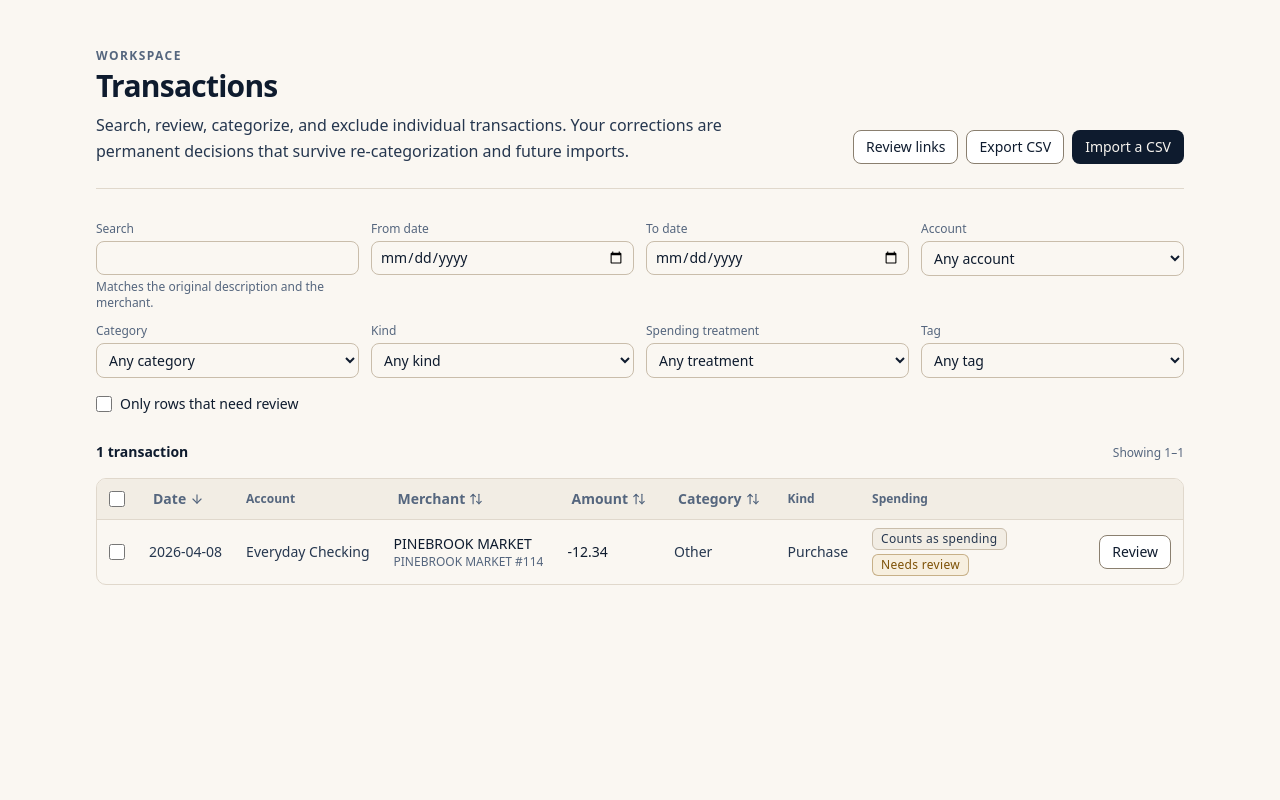
Test: double submission › writes once when the save button is clicked twice
Expected: the heading "1 transaction" is shown, [96, 442, 188, 462]
Step 1. Click the button "Review" → (1135, 552), box [1099, 535, 1171, 569]
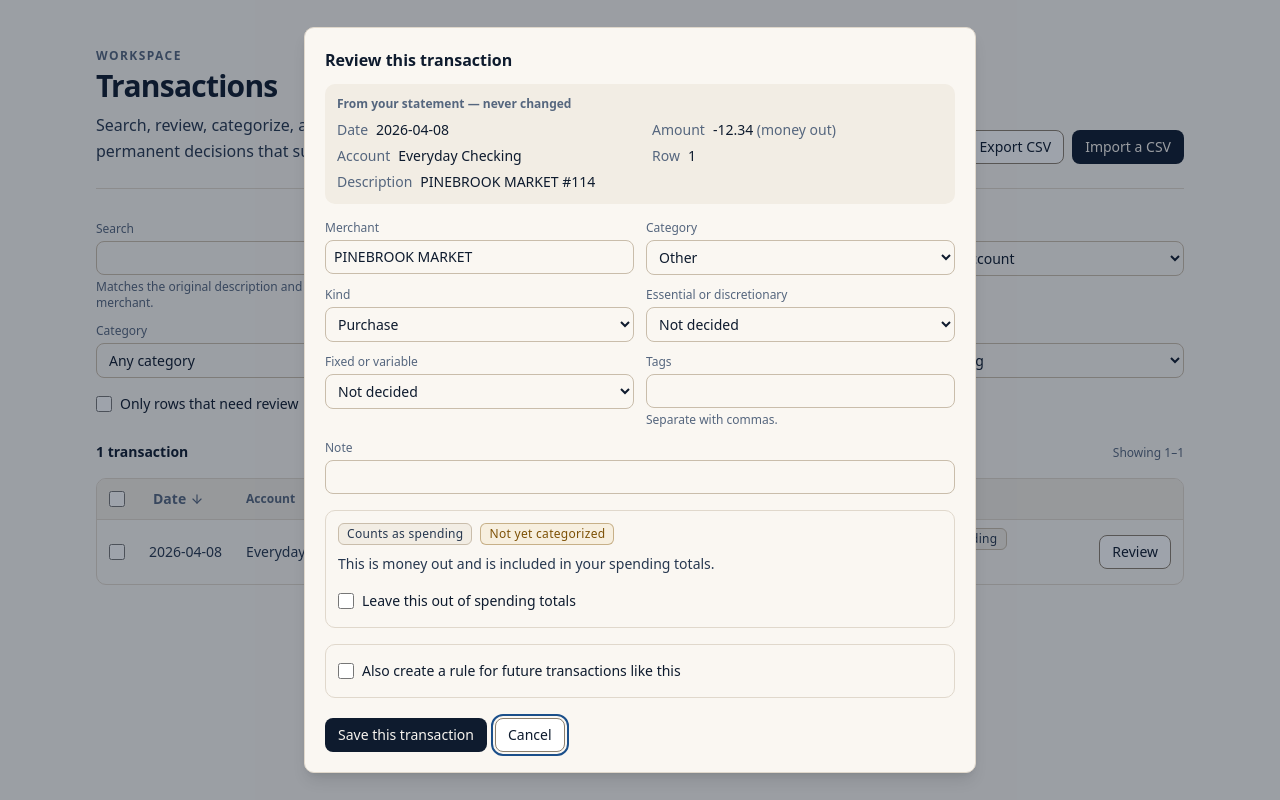
Step 2. Select "Groceries" in the dropdown labelled "Category" → (800, 257), box [646, 240, 955, 275]
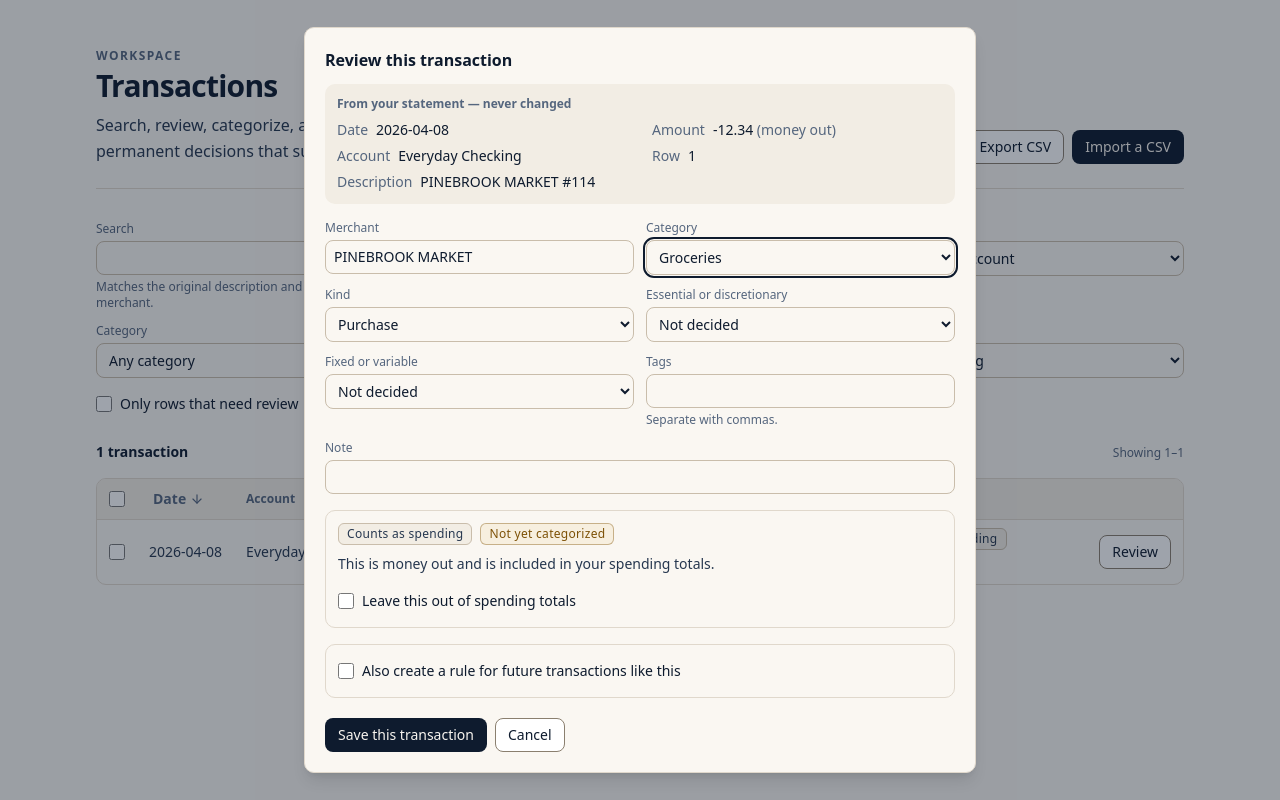
Step 3. Click the button "Save this transaction" → (406, 735), box [325, 718, 487, 752]
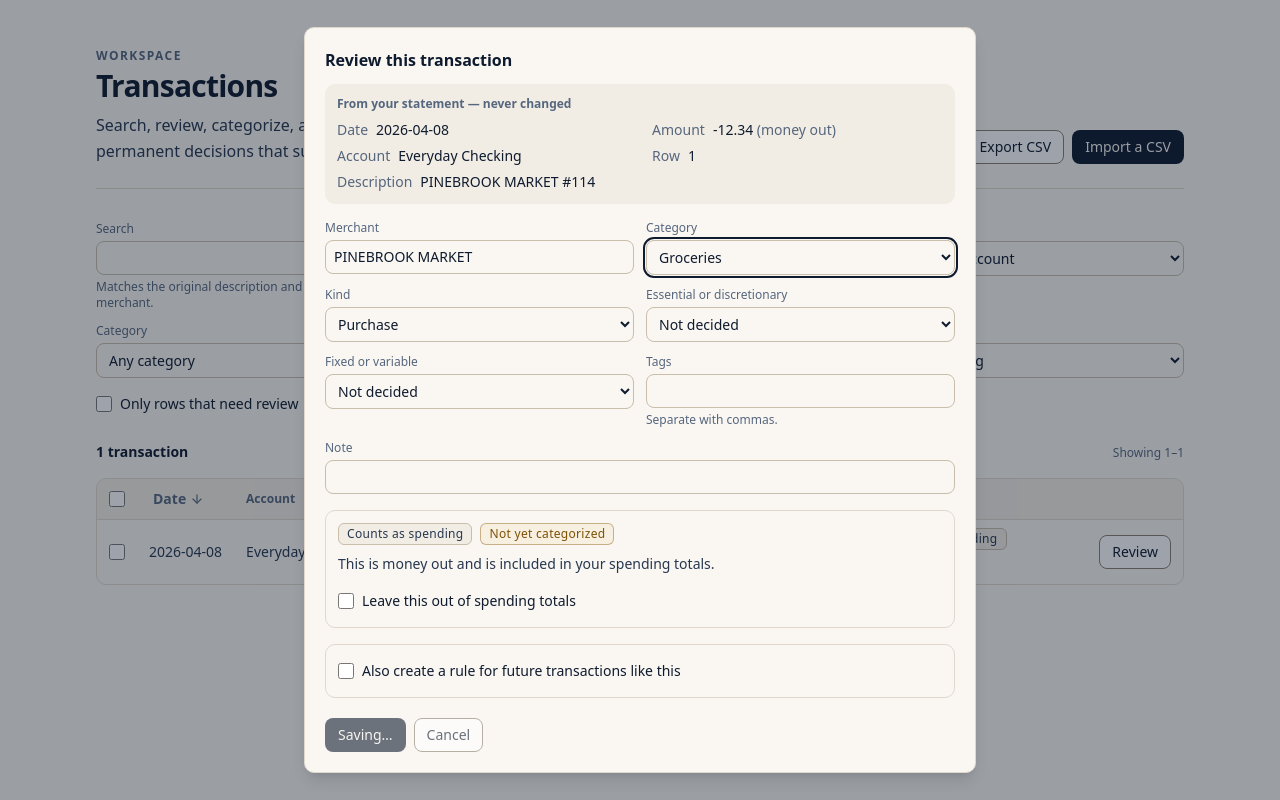
Step 4. Click the button named "save this transaction" → (365, 735), box [325, 718, 406, 752]
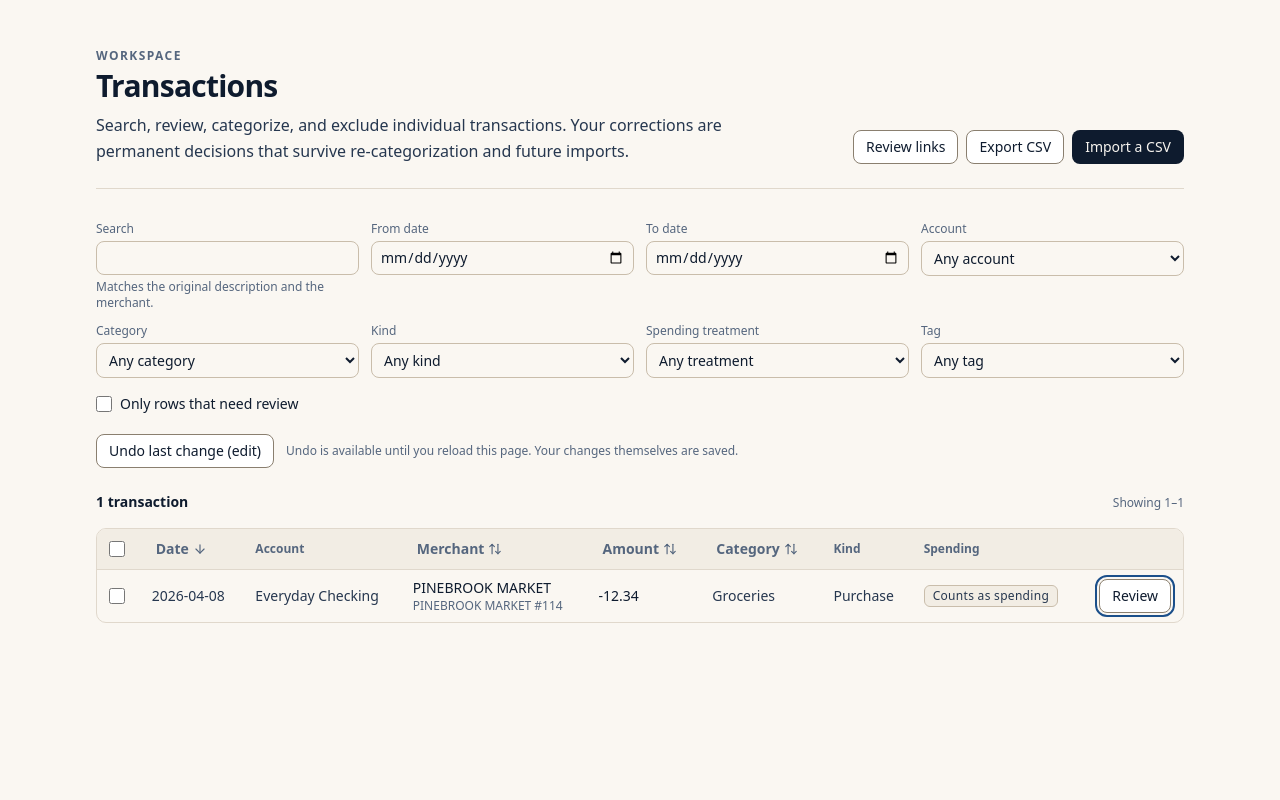
Now the dialog is gone
